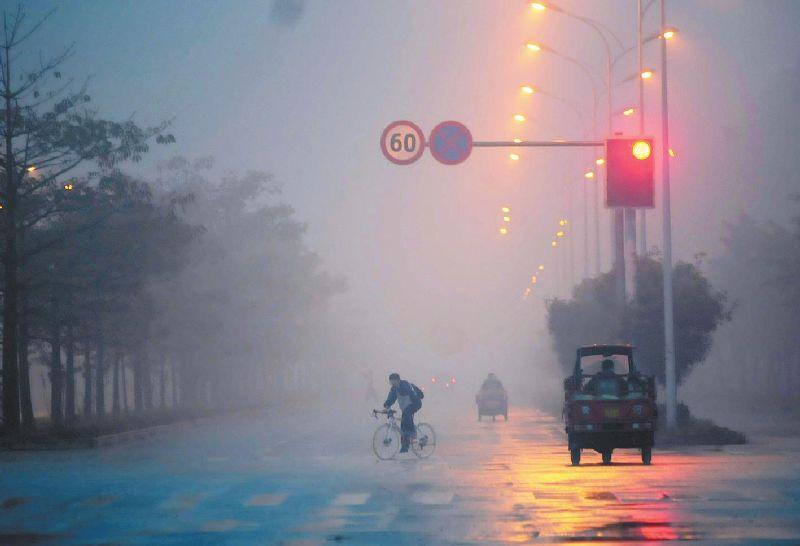bicycle: (369, 404, 436, 460)
person: (584, 359, 629, 441), (384, 373, 422, 454), (478, 373, 504, 411)
